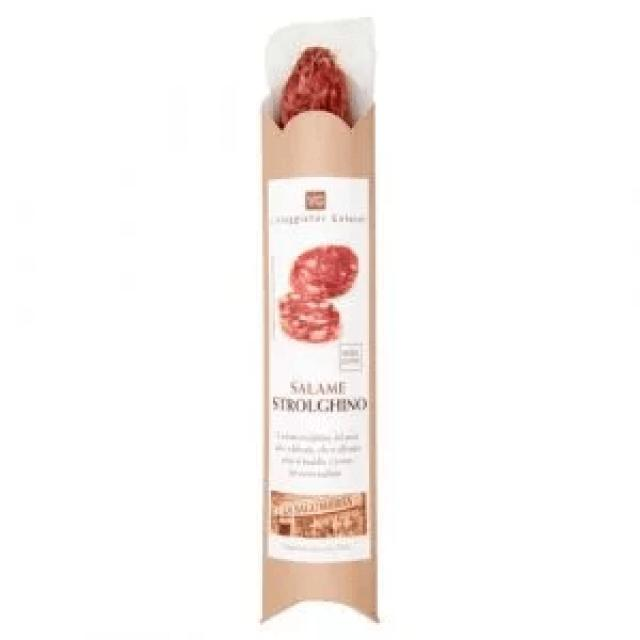ham: (262, 15, 380, 619)
